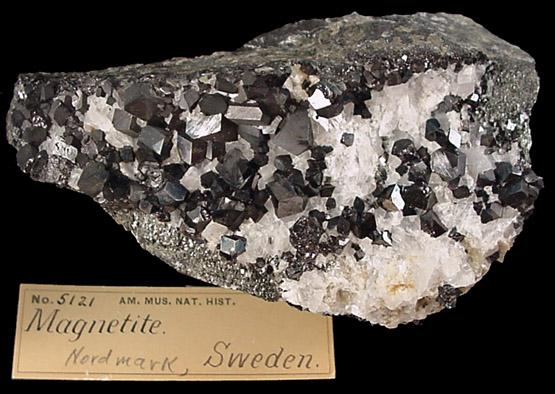magnetite: (112, 64, 334, 208), (9, 80, 89, 168), (219, 156, 305, 231), (473, 147, 542, 218), (277, 225, 339, 280), (216, 147, 269, 189)
